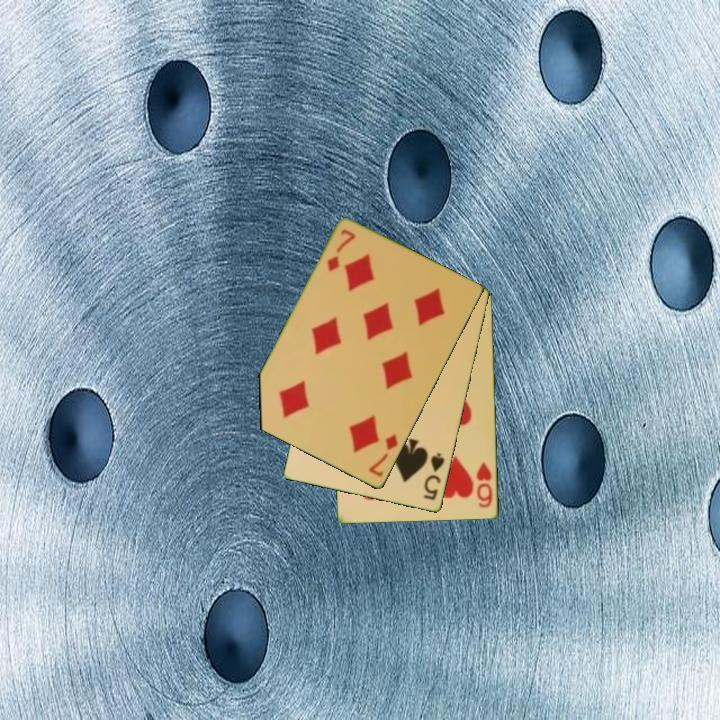5s: (421, 450, 448, 503)
6h: (473, 459, 495, 511)
7d: (365, 431, 401, 480), (324, 226, 358, 275)
